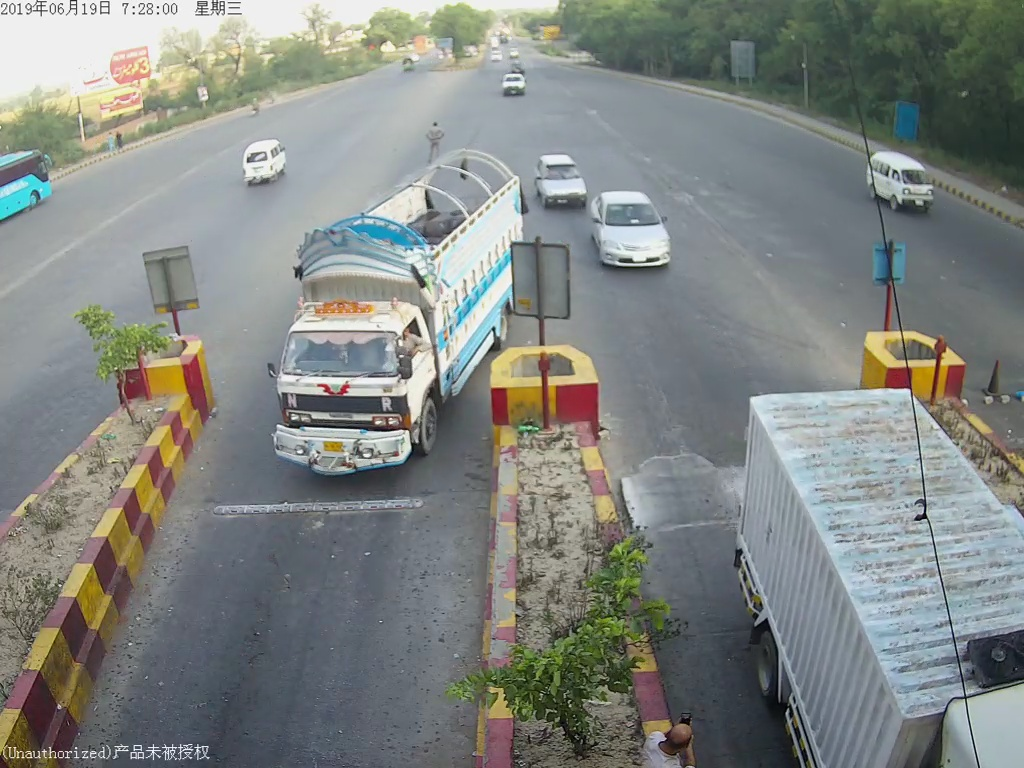Cat-1: (596, 191, 688, 266), (533, 145, 584, 216)
Cat-4: (248, 148, 526, 479)
